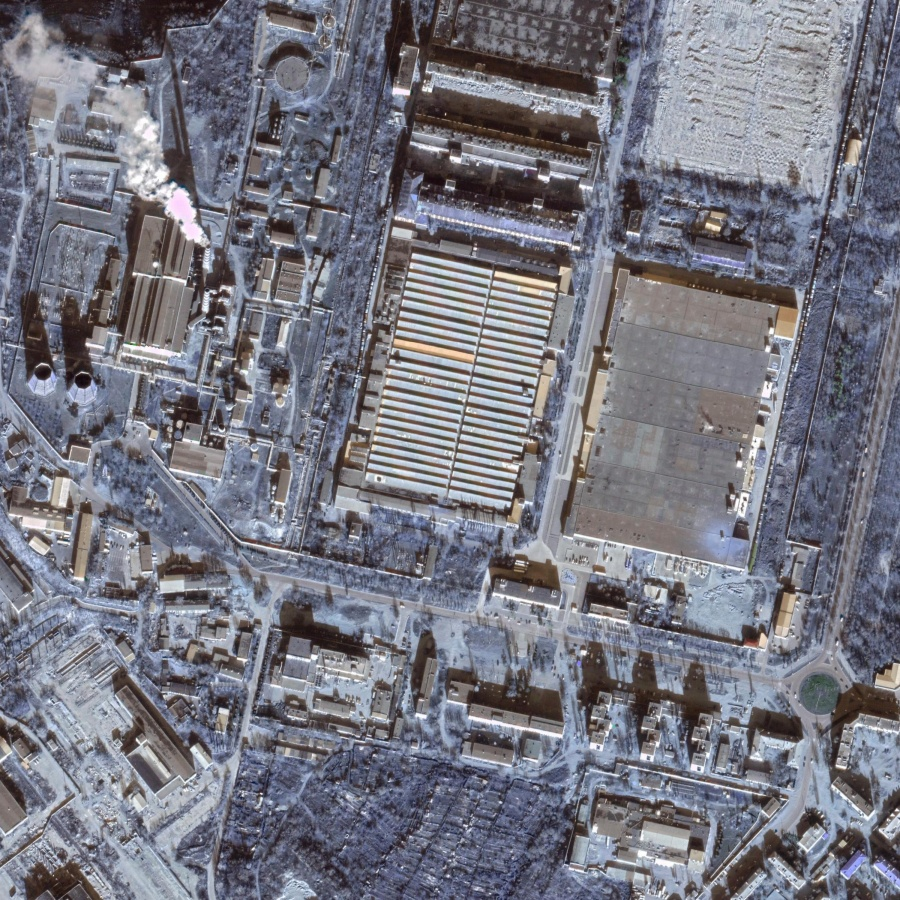PowerPlant: (14, 156, 237, 417)
